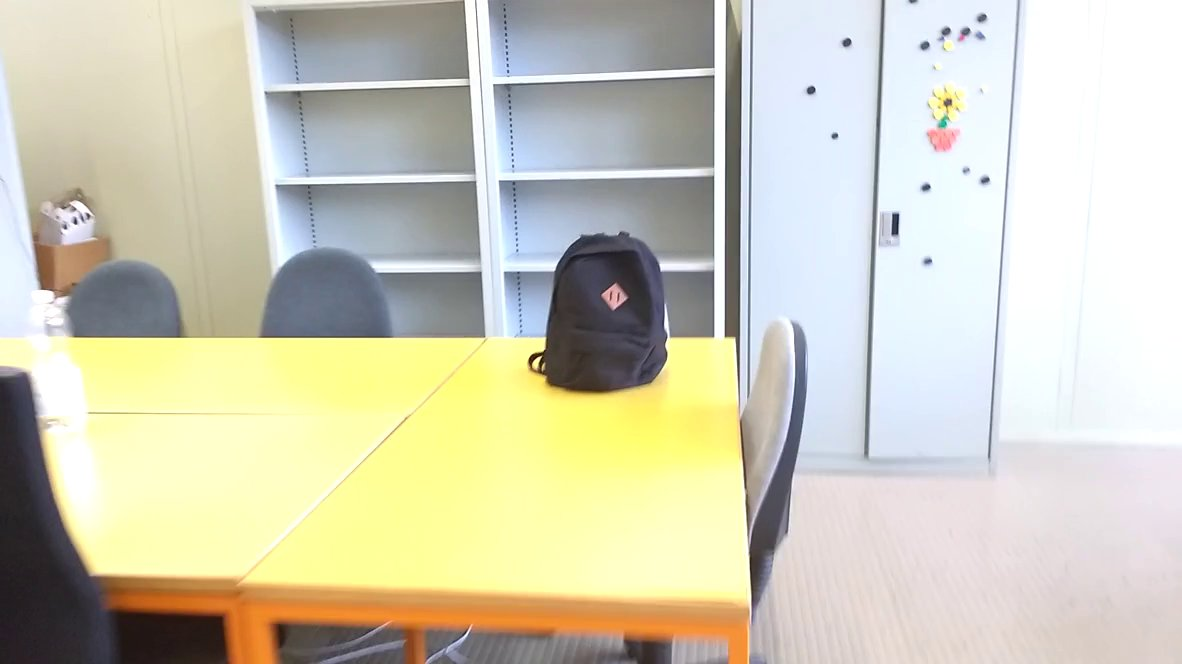bag: (527, 219, 681, 402)
chair: (679, 306, 818, 604), (241, 225, 409, 367), (62, 244, 183, 372)
